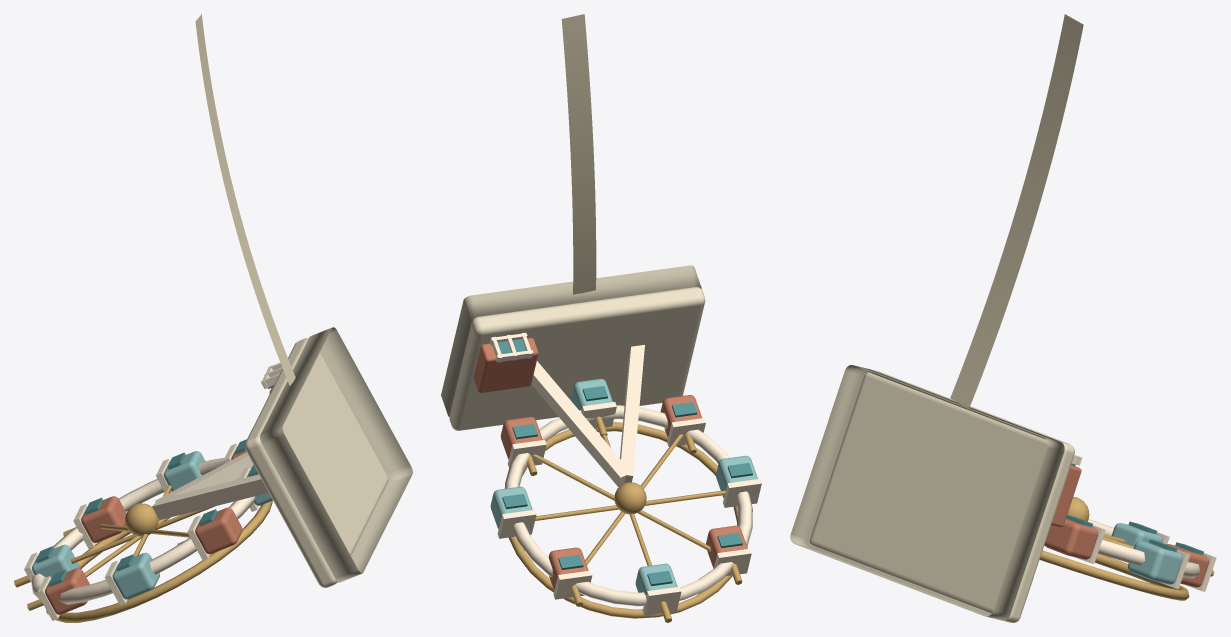
File: wheel.glb
3 views of the same model, side by side, from view 1: azimuth 30°, elevation 25°; view 2: azimuth 150°, elevation 25°; view 3: azimuth 270°, elevation 25° (orthographic). The views are drawn at different scales.
Parts seen in each view (by area): view 1: wheel (×8); view 2: wheel (×8); view 3: wheel (×8).
Boxes of the visible parts, x1,y1,x2,y2 form: wheel (×8): (14, 14, 412, 622); wheel (×8): (441, 14, 761, 622); wheel (×8): (790, 14, 1216, 622).
Size of the model in its own units: 0.423 by 0.6669 by 0.4149.
